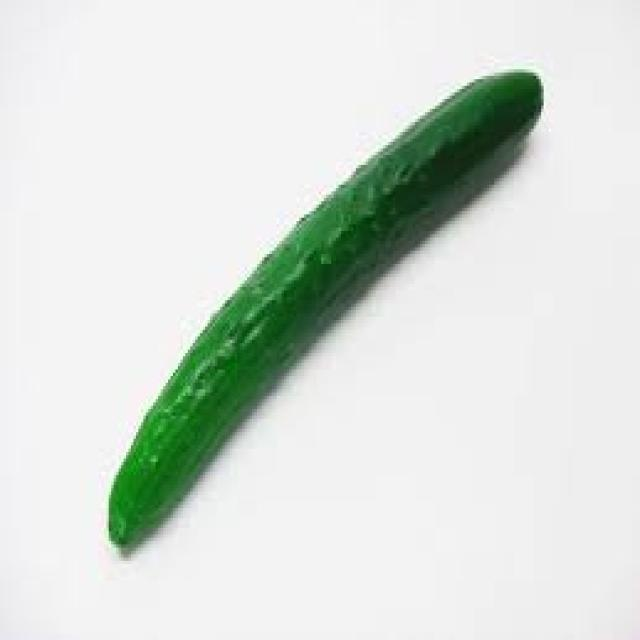cucumber: (106, 63, 544, 554)
